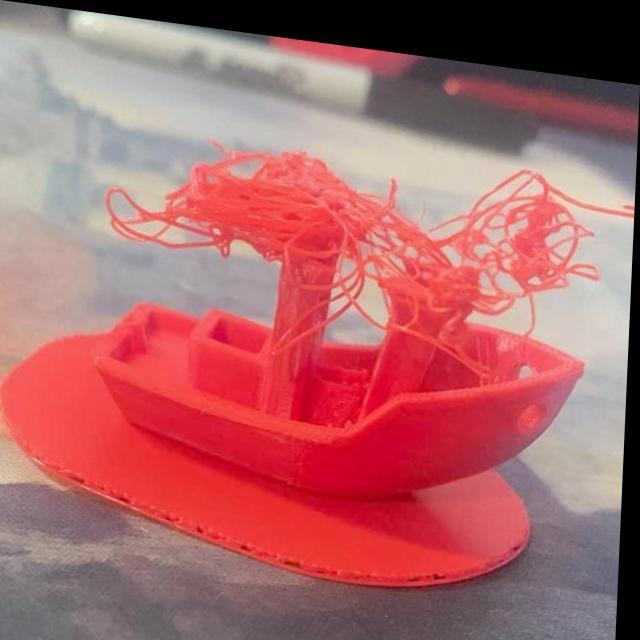spaghetti: (316, 185, 482, 323), (450, 158, 600, 293), (110, 178, 228, 254)
